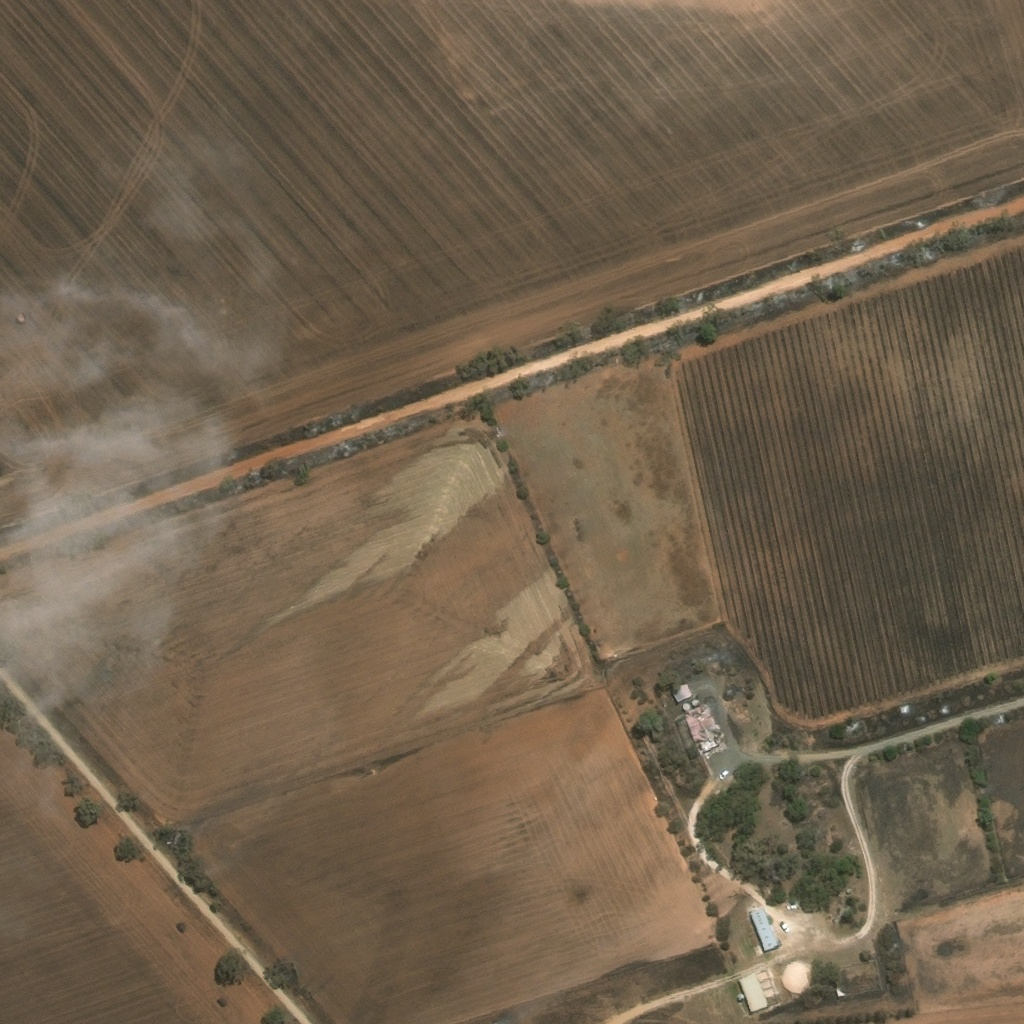0 no-damage: (749, 907, 779, 952), (738, 974, 768, 1013), (683, 703, 691, 711), (738, 994, 744, 1001), (692, 700, 699, 706)
2 major-damage: (676, 703, 723, 758), (671, 683, 694, 704)
